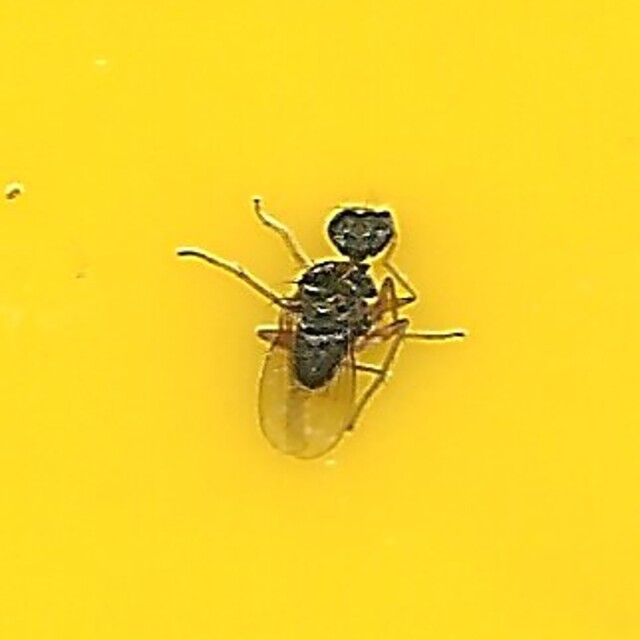Brachycera: (199, 183, 441, 457)
